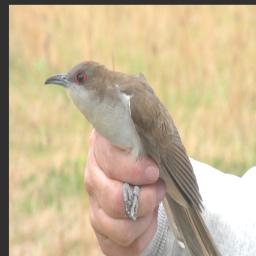Cuckoo: (44, 59, 245, 256)
